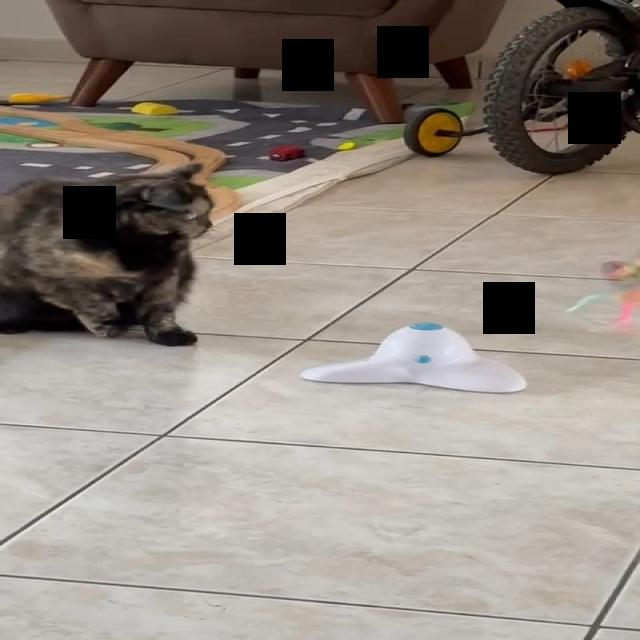authorized: (0, 162, 215, 346)
